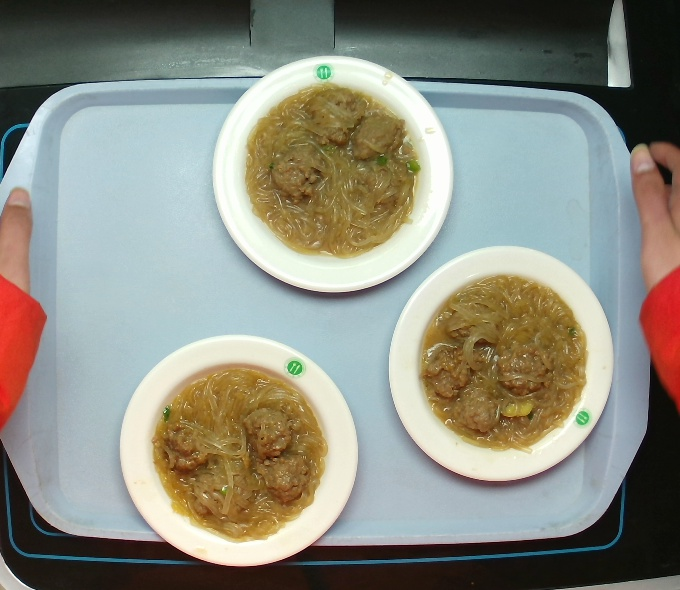wcq-FenSiNiuRouWan: (148, 353, 332, 545), (414, 266, 600, 455), (245, 80, 425, 258)
